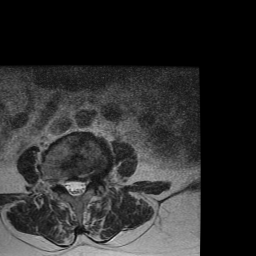CCS_normal: (72, 173, 80, 201)
LFS_severe_stenosis: (87, 171, 95, 190)
LLS_normal: (80, 173, 87, 199)
RFS_normal: (56, 172, 64, 193)
RLS_normal: (64, 174, 72, 196)
